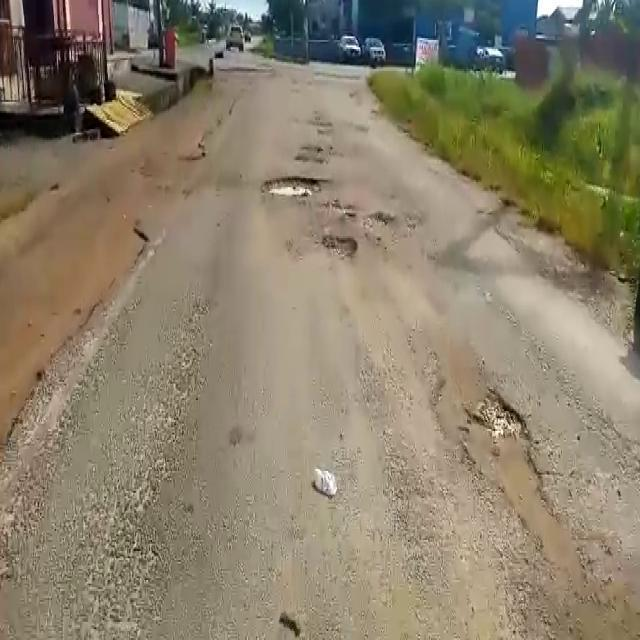pothole: (460, 386, 577, 563), (262, 170, 323, 200), (316, 231, 360, 256)
